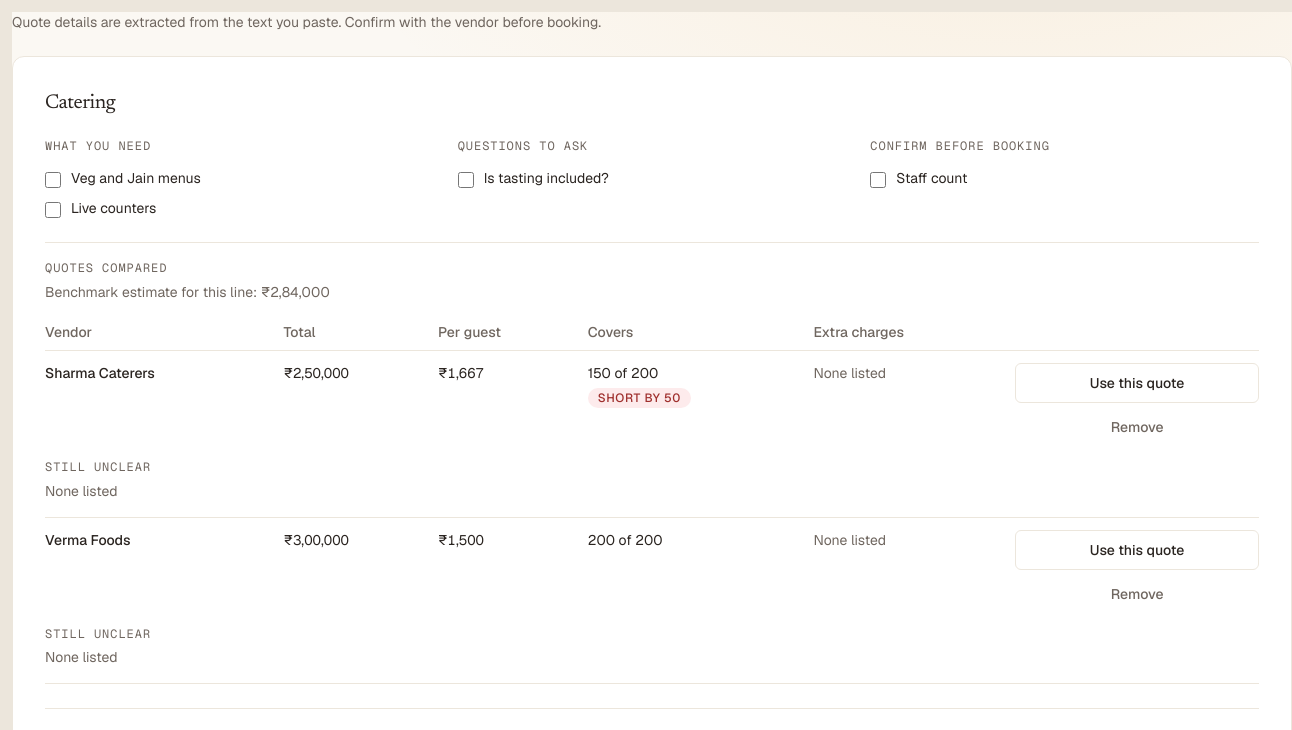
Scenario: VendorsTab quotes › switches the chosen quote to In use and moves it when another is picked
Expected: the button "In use" is not shown
Click the button "Use this quote" in the row of "Sharma Caterers" at (1137, 383), box [1015,363,1259,403]
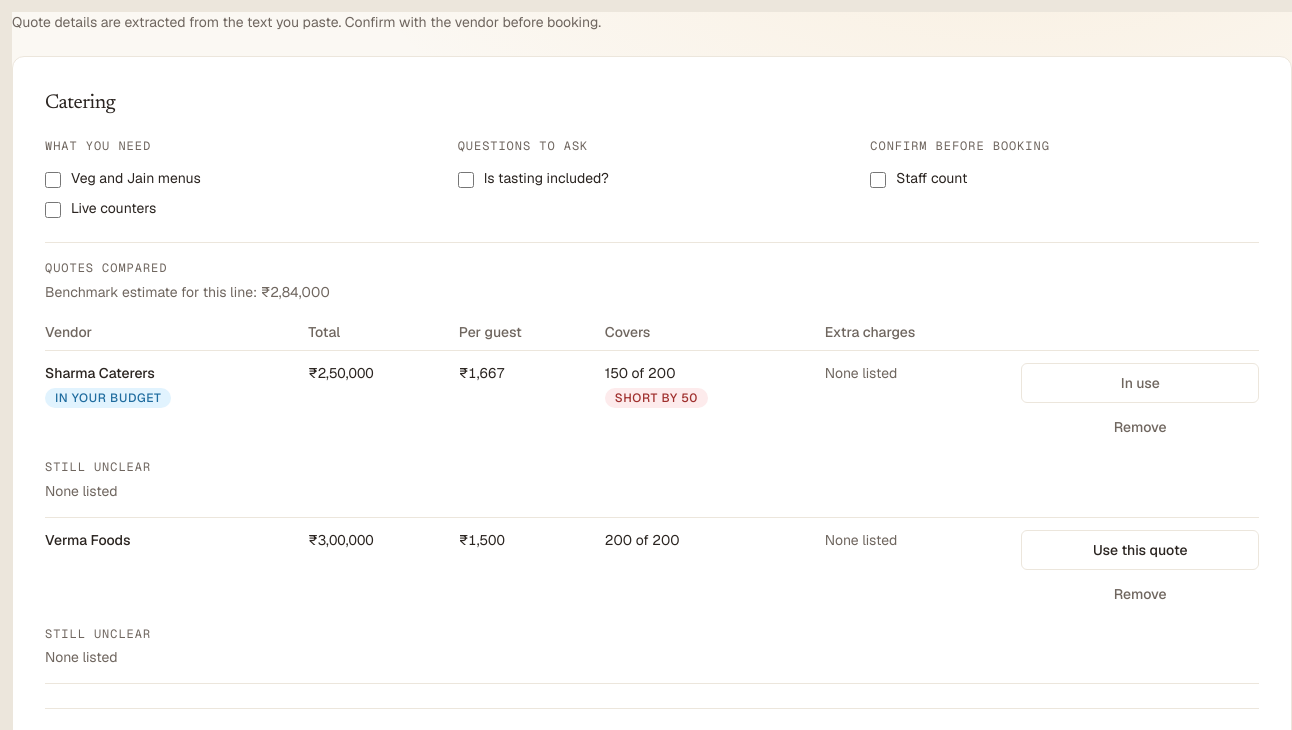
Now the button "In use" is disabled, box [1021,363,1259,403]
Now the text "In your budget" is shown, box [45,388,172,408]
Click the button "Use this quote" at (1140, 550), box [1021,530,1259,570]
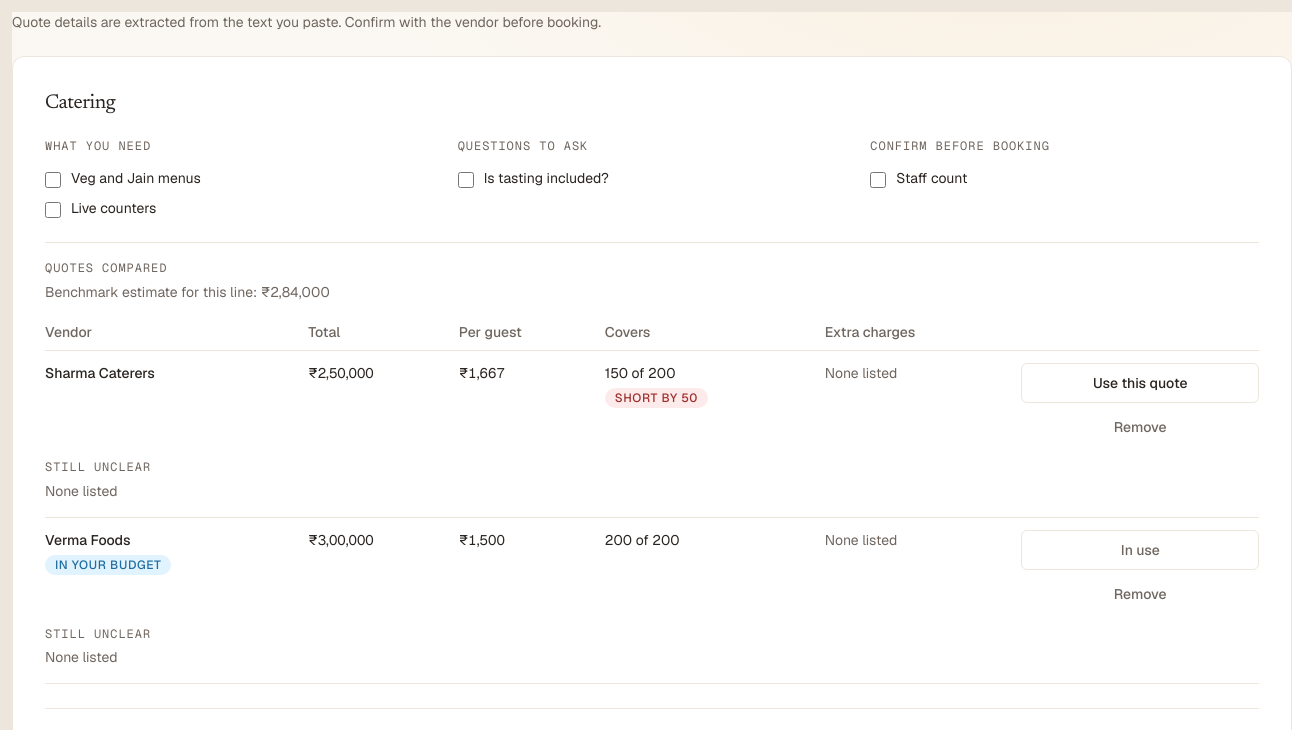
Expected: the number of buttons "In use" is 1, [1021,530,1259,570]
Now the button "Use this quote" is enabled, box [1021,363,1259,403]
